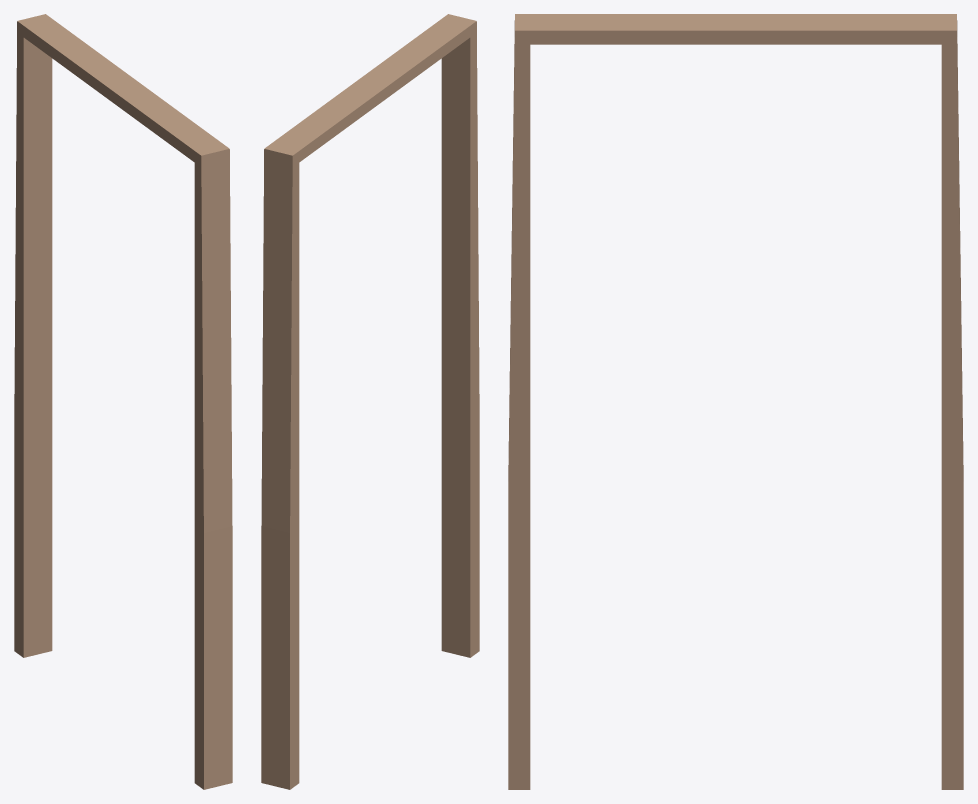
File: Doorframe.fbx
3 renders of one model, left to right at view 1: azimuth 30°, elevation 25°; view 2: azimuth 150°, elevation 25°; view 3: azimuth 270°, elevation 25°, orthographic. The views are drawn at different scales.
Parts seen in each view (by area): view 1: Doorframe; view 2: Doorframe; view 3: Doorframe.
Boxes of the visible parts, box(x1,y1,x2,y2) form: Doorframe: box(14, 14, 232, 789); Doorframe: box(261, 14, 479, 789); Doorframe: box(508, 14, 963, 789).
Size of the model in its own units: 10.59 by 224 by 122.
